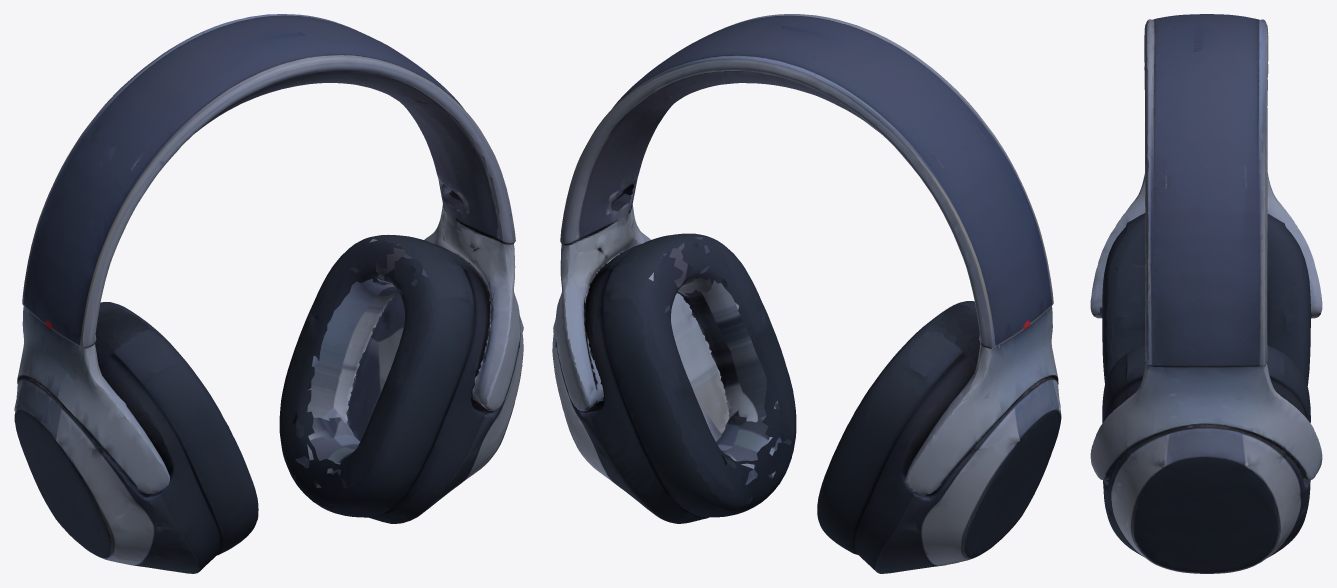
The picture shows the model from 3 angles, left to right: view 1: azimuth 30°, elevation 25°; view 2: azimuth 150°, elevation 25°; view 3: azimuth 270°, elevation 25°; orthographic projection. The views are drawn at different scales.
Parts seen in each view (by area): view 1: textured_mesh; view 2: textured_mesh; view 3: textured_mesh.
Part boxes in pixels (box(x1,y1,x2,y2)): textured_mesh: box(14, 14, 523, 573); textured_mesh: box(552, 14, 1061, 573); textured_mesh: box(1090, 14, 1322, 573).
Bounding box in the file's own units: 1.97 × 1.99 × 0.8686.
1 material, 1 textured.
